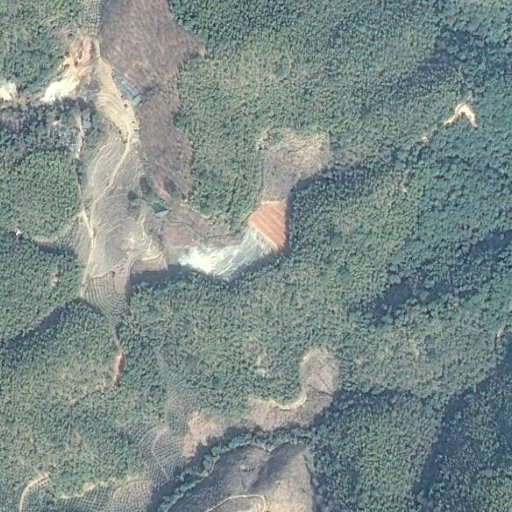tp: (174, 196, 290, 282)
